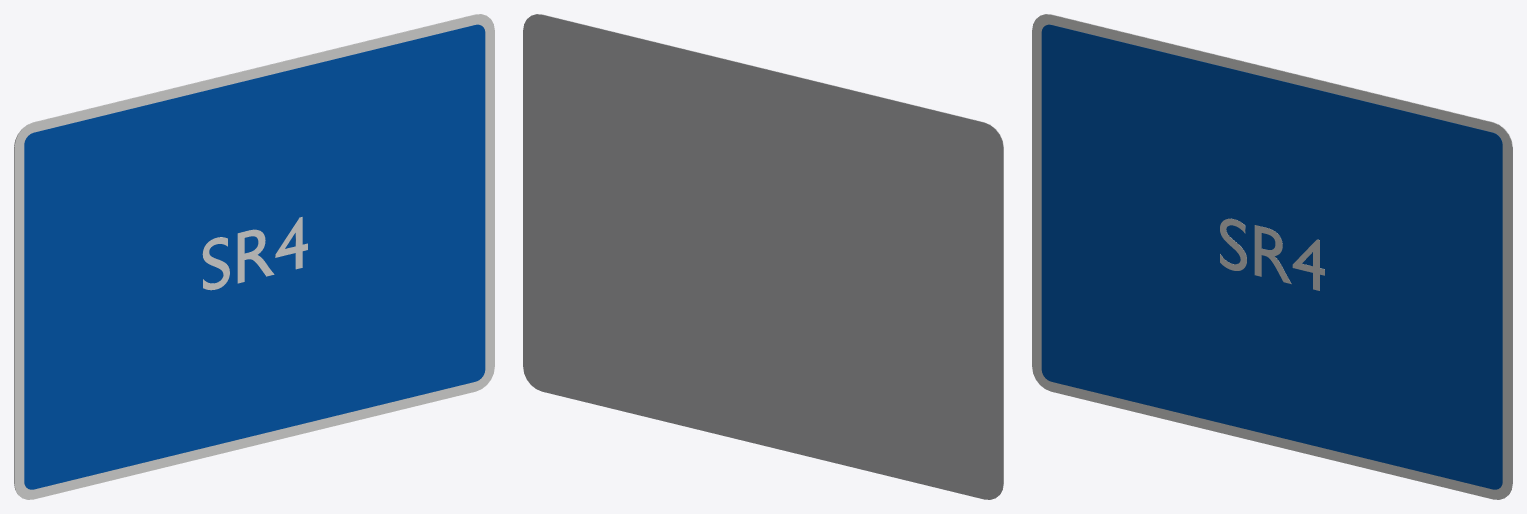
3 renders of one model, left to right at view 1: azimuth 30°, elevation 25°; view 2: azimuth 150°, elevation 25°; view 3: azimuth 330°, elevation 25°, orthographic.
Parts seen in each view (by area): view 1: SR4_fond01, SR4_cadre00, SR4_txt02, SR4_dos; view 2: SR4_dos; view 3: SR4_fond01, SR4_cadre00, SR4_txt02, SR4_dos.
Part boxes in pixels (<box>): SR4_fond01: <box>24,24,485,489</box>; SR4_cadre00: <box>14,14,494,499</box>; SR4_txt02: <box>202,217,307,290</box>; SR4_dos: <box>14,14,483,493</box>; SR4_dos: <box>523,14,1003,499</box>; SR4_fond01: <box>1041,24,1502,489</box>; SR4_cadre00: <box>1032,14,1512,499</box>; SR4_txt02: <box>1220,218,1324,290</box>; SR4_dos: <box>1043,14,1512,493</box>.
Bounding box in the file's own units: 1 × 0.75 × 0.0025.
